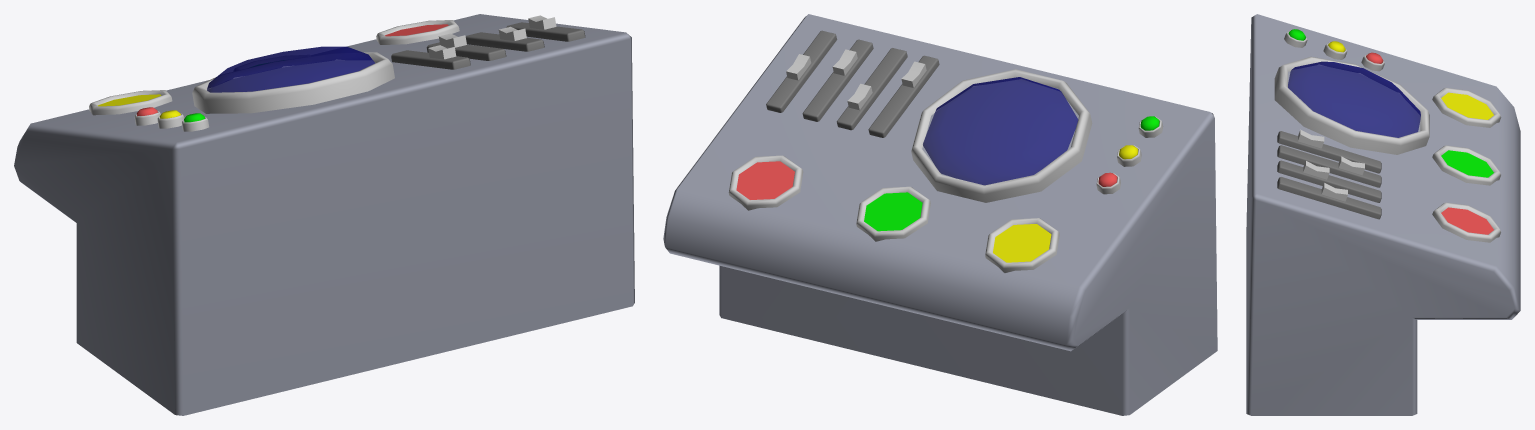
File: Machine1.fbx
3 renders of one model, left to right at view 1: azimuth 30°, elevation 25°; view 2: azimuth 150°, elevation 25°; view 3: azimuth 270°, elevation 25°, orthographic. The views are drawn at different scales.
Visible parts, largest first — view 1: pCube123, polySurface8, polySurface9, pCube124 (×4), pCylinder16, pCylinder18; view 2: pCube123, polySurface8, polySurface9, pCube124 (×4), pCylinder18, pCylinder17, pCylinder16; view 3: pCube123, polySurface8, polySurface9, pCube124 (×4), pCylinder17, pCylinder18, pCylinder16, pCube125 (×4), pCylinder22, pCylinder21, pCylinder20.
Part boxes in pixels (box(x1,y1,x2,y2)): pCube123: box(14, 14, 634, 415); polySurface8: box(192, 52, 394, 113); polySurface9: box(207, 46, 374, 92); pCube124 (×4): box(391, 22, 585, 69); pCylinder16: box(376, 20, 459, 44); pCylinder18: box(89, 90, 172, 115); pCube123: box(663, 14, 1217, 415); polySurface8: box(911, 69, 1092, 202); polySurface9: box(923, 77, 1077, 185); pCube124 (×4): box(766, 30, 939, 137); pCylinder18: box(985, 218, 1059, 272); pCylinder17: box(856, 186, 930, 241); pCylinder16: box(728, 155, 803, 210); pCube123: box(1246, 14, 1520, 415); polySurface8: box(1274, 56, 1429, 154); polySurface9: box(1288, 61, 1420, 137); pCube124 (×4): box(1277, 131, 1381, 219); pCylinder17: box(1432, 145, 1500, 185); pCylinder18: box(1432, 87, 1501, 127); pCylinder16: box(1432, 202, 1500, 242); pCube125 (×4): box(1298, 129, 1364, 201); pCylinder22: box(1323, 41, 1347, 59); pCylinder21: box(1284, 29, 1307, 47); pCylinder20: box(1361, 52, 1384, 71).
Size of the model in its own units: 44.35 by 25.92 by 27.98.
